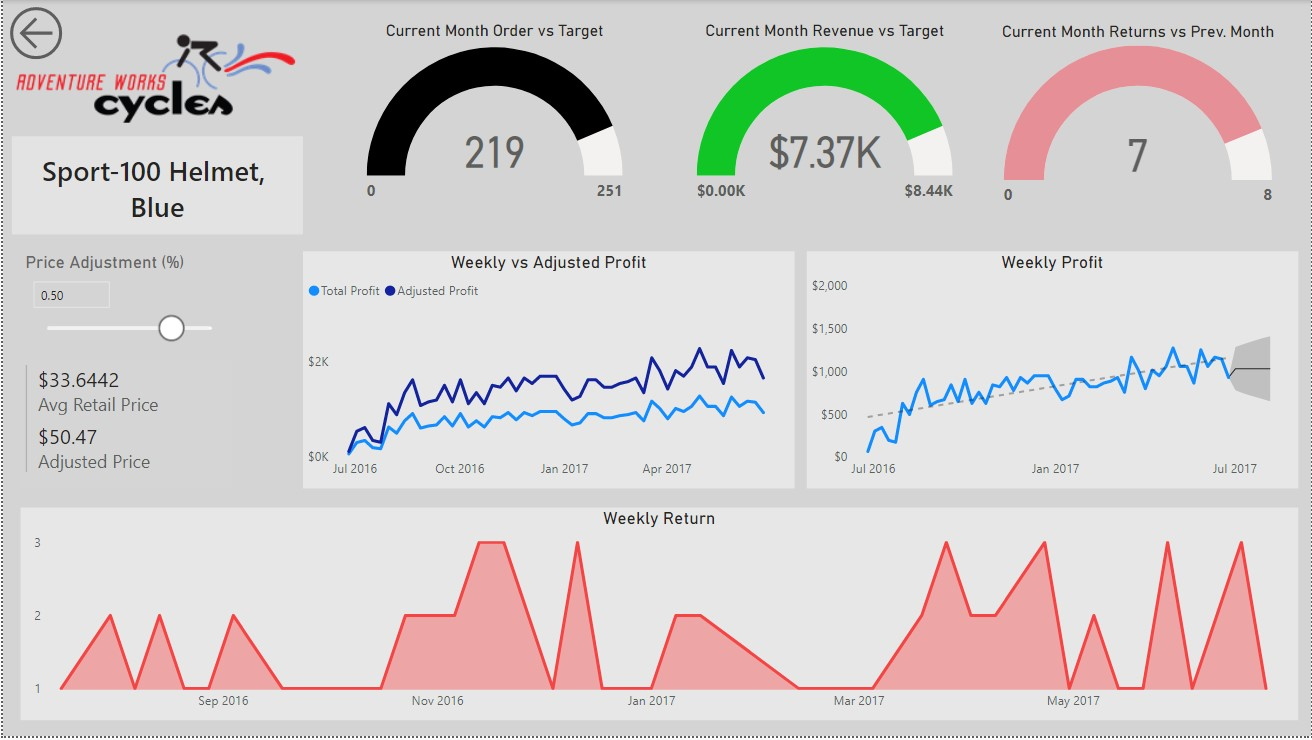

What the dashboard file says about the page in this screenshot:
{"tool":"powerbi","page":{"name":"Product Details","canvas":[1280,720],"ordinal":1},"visuals":[{"type":"image","box":[8.6,20.8,284.8,112.5],"z":0},{"type":"lineChart","title":"Weekly Profit","fields":{"Y":["AW_Sales.Total Profit"],"Category":["AS_Calendar_LOOKUP.Start of Week"]},"box":[786,245.7,480.4,232.3],"z":1000},{"type":"areaChart","title":"Weekly Return","fields":{"Category":["AS_Calendar_LOOKUP.Start of Week"],"Y":["AW_Returns.Total Return"]},"box":[17.1,496.3,1249.3,207.8],"z":2000},{"type":"gauge","title":"Current Month  Order vs Target","fields":{"Y":["AW_Sales.Total Orders"],"MaxValue":["AW_Sales.Order Taget"]},"box":[351.2,21.2,260,188.8],"z":3000},{"type":"gauge","title":"Current Month Revenue vs Target","fields":{"Y":["AW_Sales.Total Revenue"],"MaxValue":["AW_Sales.Tagret Revenue"]},"box":[673.8,21.2,260,188.8],"z":4000},{"type":"gauge","title":"Current Month Returns vs Prev. Month","fields":{"Y":["AW_Returns.Total Return"],"MaxValue":["AW_Returns.Previous month Returns"]},"box":[970,22.5,278.8,188.8],"z":5000},{"type":"card","fields":{"Values":["Min(AW_PRODUCT_LOOKUP.ProductName)"]},"box":[8.8,133.8,285,96.2],"z":6000},{"type":"actionButton","box":[0,0,125,65],"z":7000},{"type":"slicer","title":"Price Adjustment (%)","fields":{"Values":["Price Adjustment (%).Price Adjustment (%)"]},"box":[17.1,245.7,207.8,106.3],"z":8000},{"type":"multiRowCard","fields":{"Values":["AW_PRODUCT_LOOKUP.Avg Retail Price","AW_PRODUCT_LOOKUP.Adjusted Price"]},"box":[17.1,352.1,207.8,125.9],"z":9000},{"type":"lineChart","title":"Weekly vs Adjusted Profit ","fields":{"Y":["AW_Sales.Total Profit","AW_Sales.Adjusted Profit"],"Category":["AS_Calendar_LOOKUP.Start of Week"]},"box":[293.4,245.7,480.4,232.3],"z":10000}]}

Visuals, with their boxes in screenshot pixels (x1, y1, x2, y2), scaled from the page's 1280x720 canvas onto the 1312x740 screenshot:
image: 9:21:301:137
"Weekly Profit" lineChart: 806:253:1298:491
"Weekly Return" areaChart: 18:510:1298:724
"Current Month  Order vs Target" gauge: 360:22:626:216
"Current Month Revenue vs Target" gauge: 691:22:957:216
"Current Month Returns vs Prev. Month" gauge: 994:23:1280:217
card - Min(AW_PRODUCT_LOOKUP.ProductName): 9:138:301:236
actionButton: 0:0:128:67
"Price Adjustment (%)" slicer: 18:253:231:362
multiRowCard - AW_PRODUCT_LOOKUP.Avg Retail Price x AW_PRODUCT_LOOKUP.Adjusted Price: 18:362:231:491
"Weekly vs Adjusted Profit " lineChart: 301:253:793:491
